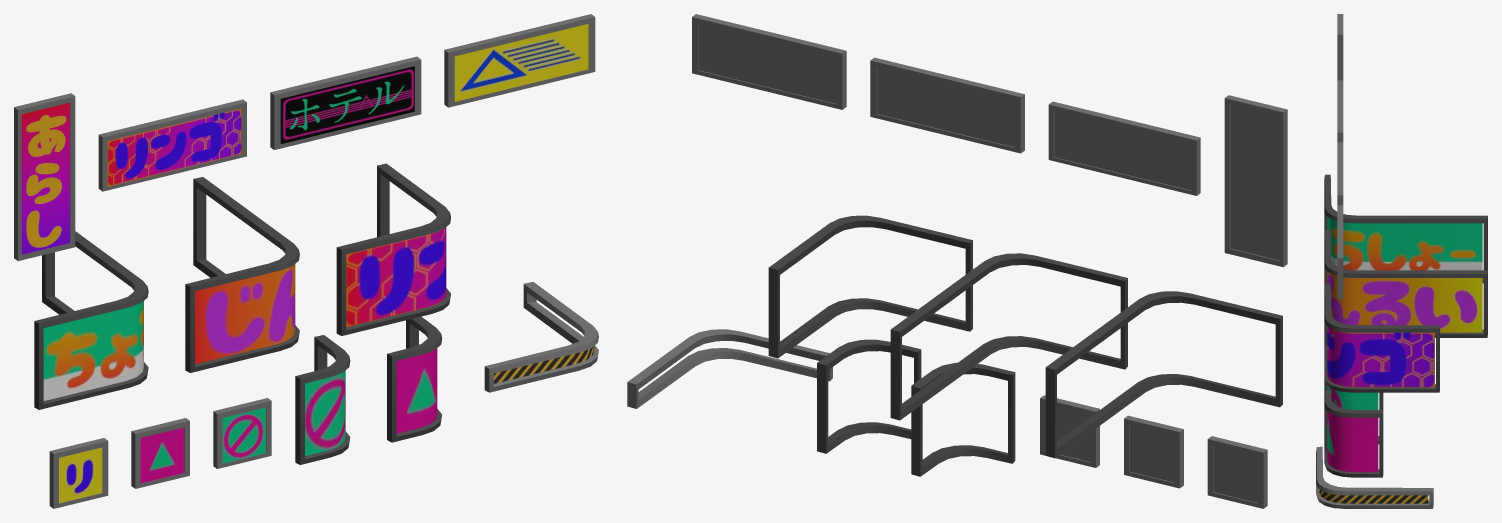
The model's file is neon-signs.glb.
3 views of the same model, side by side, from view 1: azimuth 30°, elevation 25°; view 2: azimuth 150°, elevation 25°; view 3: azimuth 270°, elevation 25° (orthographic). The views are drawn at different scales.
Parts seen in each view (by area): view 1: Sign_Corner_2, Sign_Corner_3, Sign_Corner_1, Sign_4, Sign_1, Sign_2, Sign_3, Sign_Corner_Small2, Sign_Corner_Small1, Sign_Corner_Hazard, Sign_Small_3, Sign_Small_2 (+1 smaller); view 2: Sign_4, Sign_1, Sign_2, Sign_3, Sign_Corner_3, Sign_Corner_2, Sign_Corner_1, Sign_Corner_Hazard, Sign_Small_3, Sign_Small_2, Sign_Corner_Small2, Sign_Corner_Small1 (+1 smaller); view 3: Sign_Corner_2, Sign_Corner_3, Sign_Corner_1, Sign_Corner_Small1, Sign_Corner_Hazard, Sign_Corner_Small2, Sign_1, Sign_4, Sign_2, Sign_3.
Part boxes in pixels (<box>): Sign_Corner_2: <box>185,177,299,372</box>; Sign_Corner_3: <box>34,231,148,409</box>; Sign_Corner_1: <box>336,163,450,335</box>; Sign_4: <box>14,93,75,260</box>; Sign_1: <box>444,14,595,107</box>; Sign_2: <box>270,56,421,149</box>; Sign_3: <box>98,99,246,191</box>; Sign_Corner_Small2: <box>295,335,350,464</box>; Sign_Corner_Small1: <box>387,316,442,442</box>; Sign_Corner_Hazard: <box>484,282,598,392</box>; Sign_Small_3: <box>49,438,108,508</box>; Sign_Small_2: <box>131,418,189,488</box>; Sign_4: <box>1224,95,1287,267</box>; Sign_1: <box>692,14,846,109</box>; Sign_2: <box>870,57,1024,153</box>; Sign_3: <box>1048,101,1200,195</box>; Sign_Corner_3: <box>1045,291,1282,458</box>; Sign_Corner_2: <box>890,253,1127,420</box>; Sign_Corner_1: <box>768,215,972,358</box>; Sign_Corner_Hazard: <box>627,329,832,408</box>; Sign_Small_3: <box>1207,436,1267,508</box>; Sign_Small_2: <box>1124,415,1183,488</box>; Sign_Corner_Small2: <box>911,362,1015,476</box>; Sign_Corner_Small1: <box>817,339,921,453</box>; Sign_Corner_2: <box>1324,229,1487,337</box>; Sign_Corner_3: <box>1324,174,1487,283</box>; Sign_Corner_1: <box>1324,284,1439,392</box>; Sign_Corner_Small1: <box>1324,390,1383,477</box>; Sign_Corner_Hazard: <box>1316,446,1433,508</box>; Sign_Corner_Small2: <box>1324,378,1383,444</box>; Sign_1: <box>1337,205,1343,298</box>; Sign_4: <box>1337,14,1343,80</box>; Sign_2: <box>1337,142,1343,205</box>; Sign_3: <box>1337,80,1343,142</box>.
Bounding box in the file's own units: 5.11 × 3.5 × 1.77.
3 materials, 1 textured.
